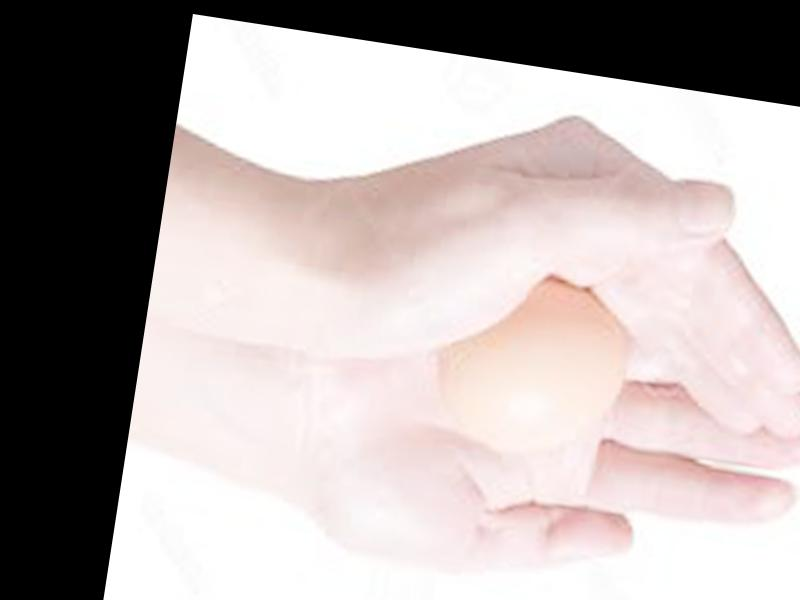Eggs: (438, 270, 635, 458)
